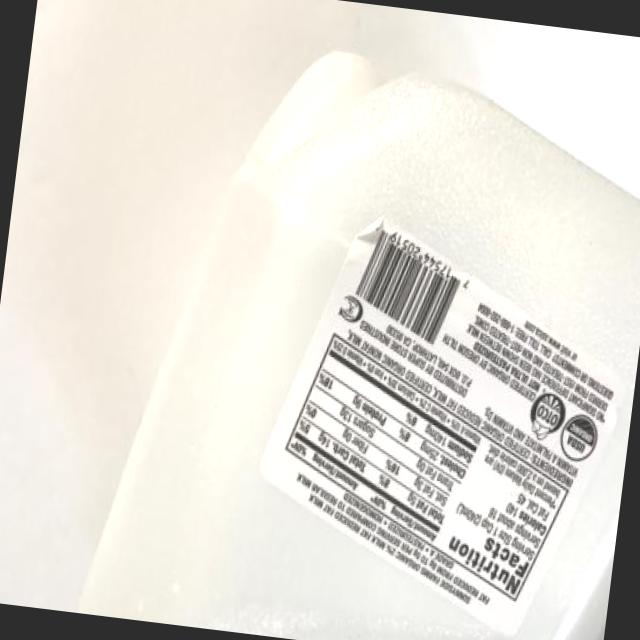Trash: (170, 59, 640, 640)
